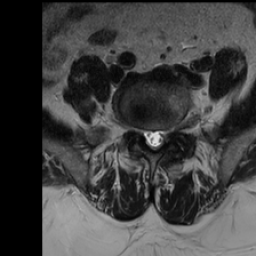CCS_normal: (150, 121, 157, 155)
LFS_stenosis: (165, 115, 174, 140)
LLS_normal: (157, 121, 165, 152)
RFS_stenosis: (133, 116, 141, 137)
RLS_normal: (141, 121, 150, 150)
